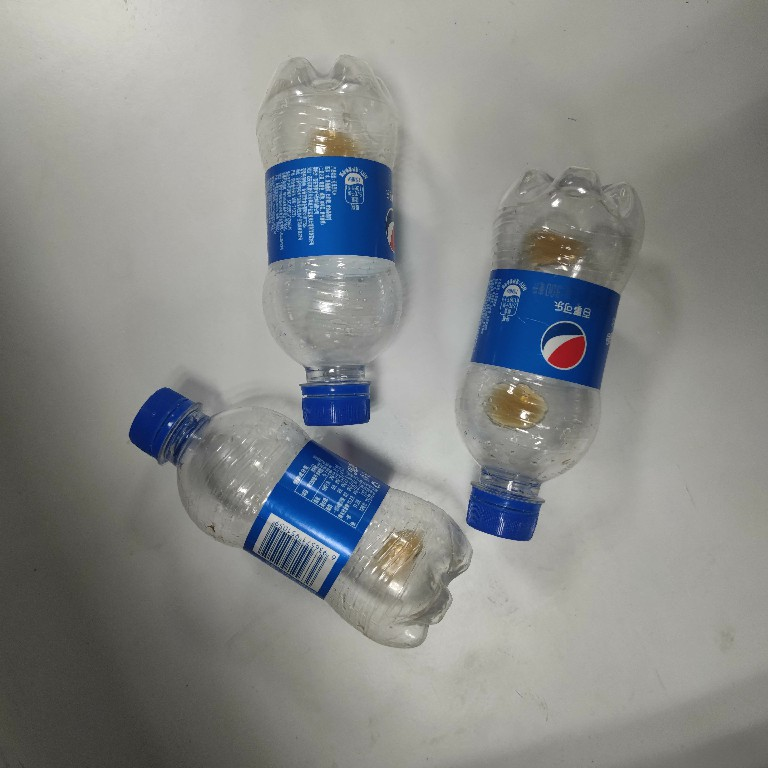bottle: (125, 383, 476, 653), (454, 165, 648, 548), (251, 51, 407, 431)
